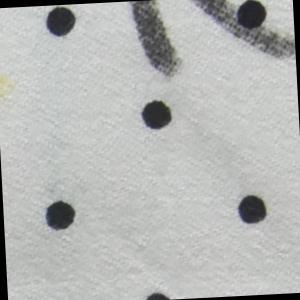Stain: (190, 1, 296, 72), (128, 1, 181, 80)
